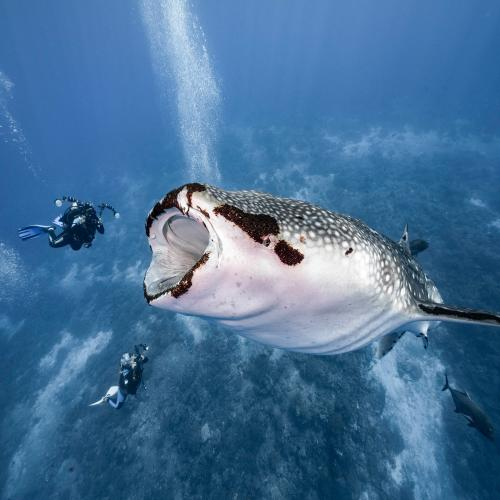shark-endangered: (143, 182, 500, 357)
